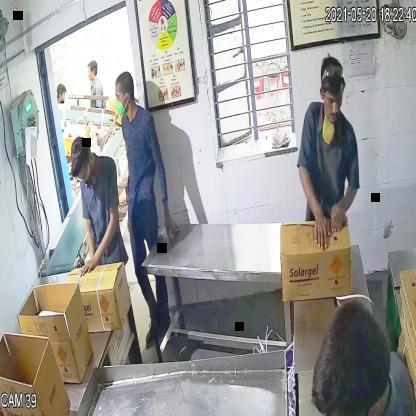no_goggles: (318, 86, 347, 112)
